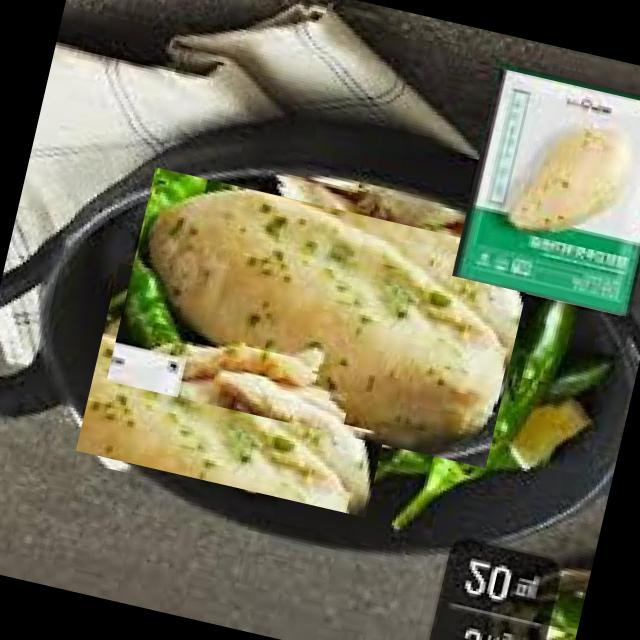chicken: (106, 167, 534, 469), (74, 262, 408, 518), (450, 67, 640, 316)
